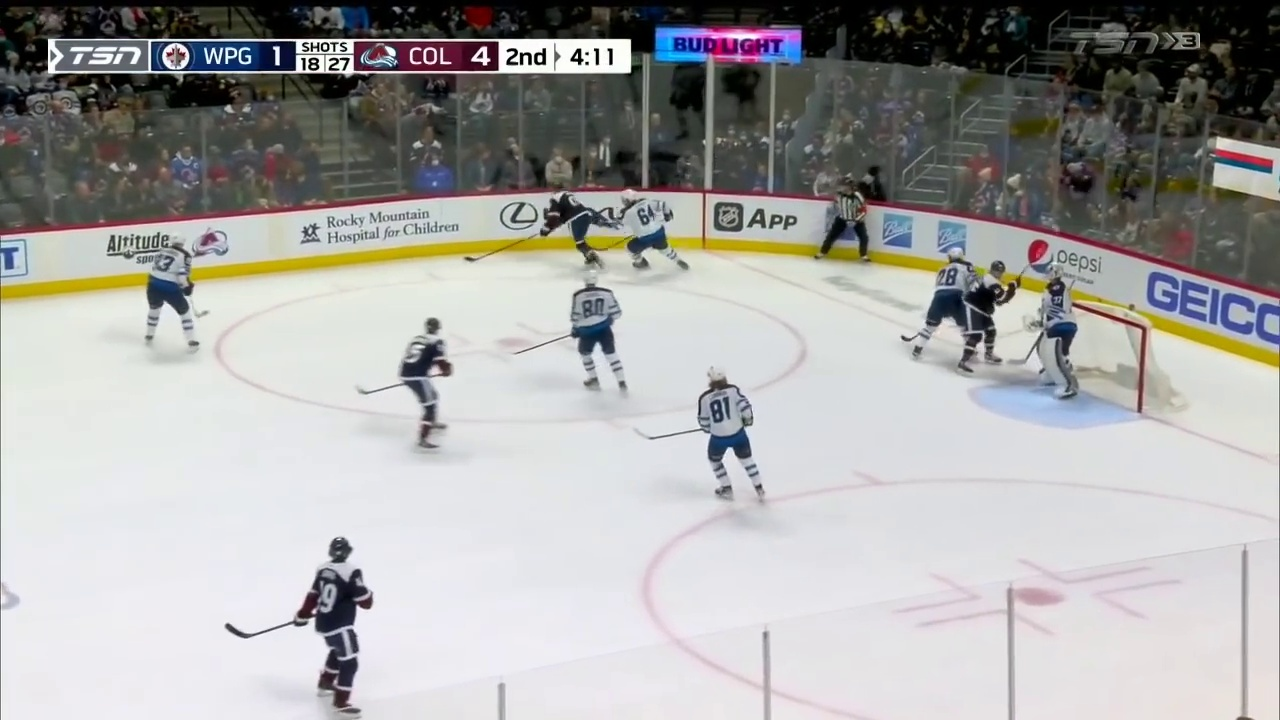goalie: (1022, 262, 1079, 399)
hockeyplayer: (294, 537, 374, 720), (696, 364, 766, 503), (956, 260, 1021, 376), (398, 317, 453, 454), (912, 247, 977, 361), (570, 270, 628, 393), (144, 232, 201, 353), (540, 180, 605, 270), (618, 189, 689, 271)
referee: (814, 178, 870, 263)
